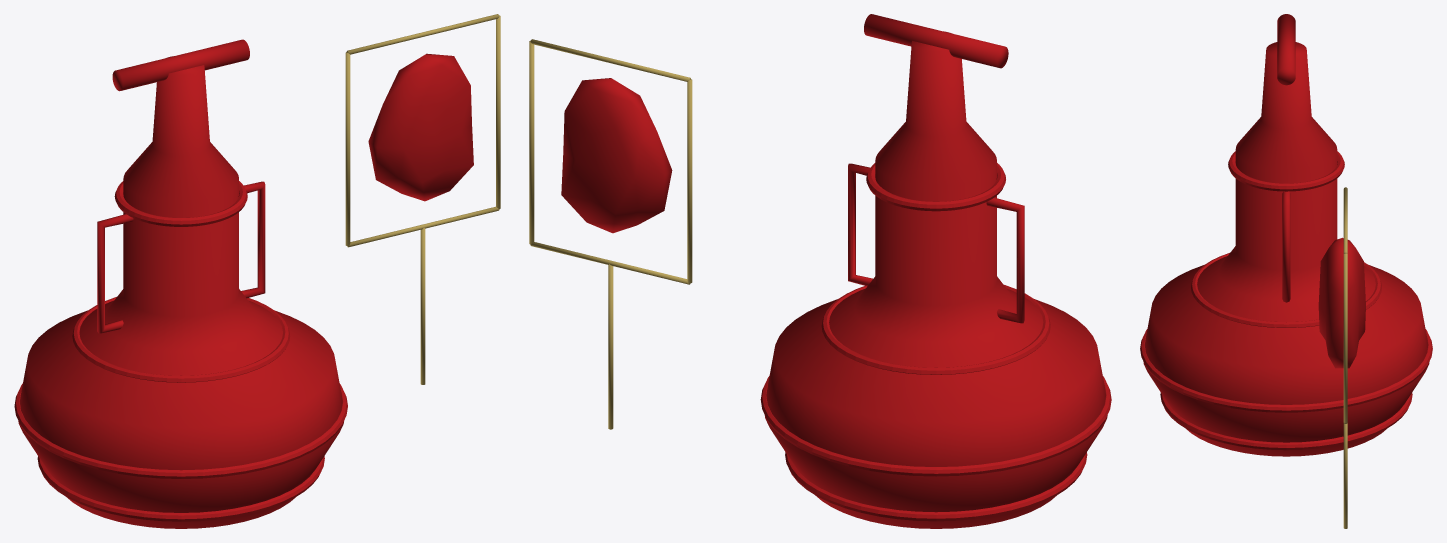
3 renders of one model, left to right at view 1: azimuth 30°, elevation 25°; view 2: azimuth 150°, elevation 25°; view 3: azimuth 270°, elevation 25°, orthographic. The views are drawn at different scales.
Visible parts, largest first — view 1: TI087 / spherical lower high-grade flask, TI087 / separate mineral specimen, TI087 / flask assembly seam.001, TI087 / flask assembly seam, TI087 / top hand valve, TI087 / flask assembly seam.002, TI087 / flask assembly seam.003, TI087 / flask protective side handle, TI087 / flask protective side handle.001, TI087 / specimen display frame.003, TI087 / specimen display frame.001, TI087 / specimen support (+2 smaller); view 2: TI087 / spherical lower high-grade flask, TI087 / separate mineral specimen, TI087 / flask assembly seam.001, TI087 / flask assembly seam, TI087 / top hand valve, TI087 / flask assembly seam.002, TI087 / flask assembly seam.003, TI087 / flask protective side handle, TI087 / specimen display frame.003, TI087 / flask protective side handle.001, TI087 / specimen display frame.001, TI087 / specimen support (+2 smaller); view 3: TI087 / spherical lower high-grade flask, TI087 / separate mineral specimen, TI087 / flask assembly seam.001, TI087 / flask assembly seam, TI087 / flask assembly seam.002, TI087 / top hand valve, TI087 / flask assembly seam.003, TI087 / flask protective side handle.001, TI087 / specimen display frame.001, TI087 / specimen support.
Boxes of the visible parts, x1=… form: TI087 / spherical lower high-grade flask: x1=18, y1=56, x2=343, y2=528; TI087 / separate mineral specimen: x1=368, y1=53, x2=473, y2=201; TI087 / flask assembly seam.001: x1=14, y1=383, x2=347, y2=478; TI087 / flask assembly seam: x1=37, y1=456, x2=324, y2=521; TI087 / top hand valve: x1=112, y1=39, x2=249, y2=91; TI087 / flask assembly seam.002: x1=72, y1=297, x2=290, y2=382; TI087 / flask assembly seam.003: x1=114, y1=181, x2=247, y2=226; TI087 / flask protective side handle: x1=97, y1=214, x2=133, y2=333; TI087 / flask protective side handle.001: x1=241, y1=181, x2=265, y2=298; TI087 / specimen display frame.003: x1=345, y1=52, x2=350, y2=245; TI087 / specimen display frame.001: x1=496, y1=15, x2=500, y2=209; TI087 / specimen support: x1=420, y1=228, x2=425, y2=384; TI087 / spherical lower high-grade flask: x1=764, y1=31, x2=1107, y2=528; TI087 / separate mineral specimen: x1=561, y1=78, x2=672, y2=233; TI087 / flask assembly seam.001: x1=760, y1=376, x2=1111, y2=476; TI087 / flask assembly seam: x1=785, y1=452, x2=1087, y2=521; TI087 / top hand valve: x1=864, y1=14, x2=1008, y2=68; TI087 / flask assembly seam.002: x1=821, y1=285, x2=1050, y2=374; TI087 / flask assembly seam.003: x1=866, y1=163, x2=1005, y2=211; TI087 / flask protective side handle: x1=986, y1=197, x2=1024, y2=323; TI087 / specimen display frame.003: x1=687, y1=79, x2=692, y2=283; TI087 / flask protective side handle.001: x1=848, y1=163, x2=872, y2=286; TI087 / specimen display frame.001: x1=529, y1=40, x2=534, y2=244; TI087 / specimen support: x1=608, y1=264, x2=613, y2=429; TI087 / spherical lower high-grade flask: x1=1143, y1=42, x2=1429, y2=456; TI087 / separate mineral specimen: x1=1318, y1=237, x2=1365, y2=368; TI087 / flask assembly seam.001: x1=1140, y1=329, x2=1432, y2=412; TI087 / flask assembly seam: x1=1160, y1=392, x2=1412, y2=450; TI087 / flask assembly seam.002: x1=1191, y1=253, x2=1381, y2=327; TI087 / top hand valve: x1=1277, y1=14, x2=1295, y2=85; TI087 / flask assembly seam.003: x1=1228, y1=151, x2=1344, y2=191; TI087 / flask protective side handle.001: x1=1282, y1=191, x2=1290, y2=302; TI087 / specimen display frame.001: x1=1343, y1=253, x2=1347, y2=422; TI087 / specimen support: x1=1343, y1=423, x2=1347, y2=528.
Size of the model in its own units: 2.98 by 2.51 by 1.73.
